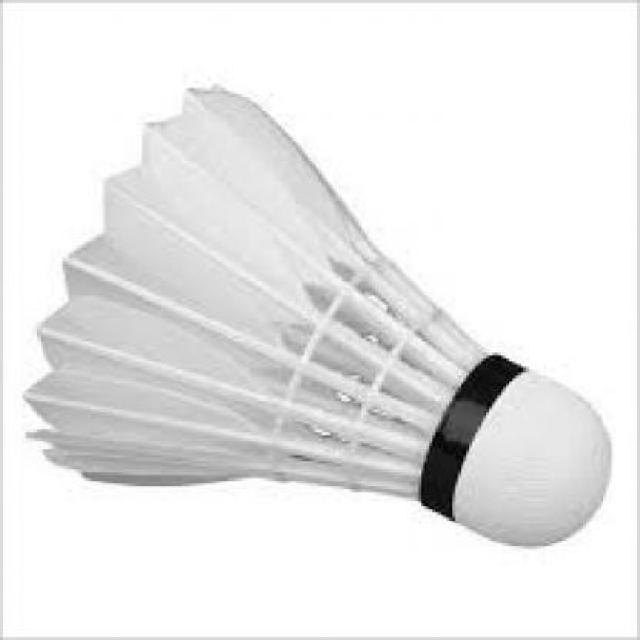Shuttlecock: (20, 80, 615, 552)
